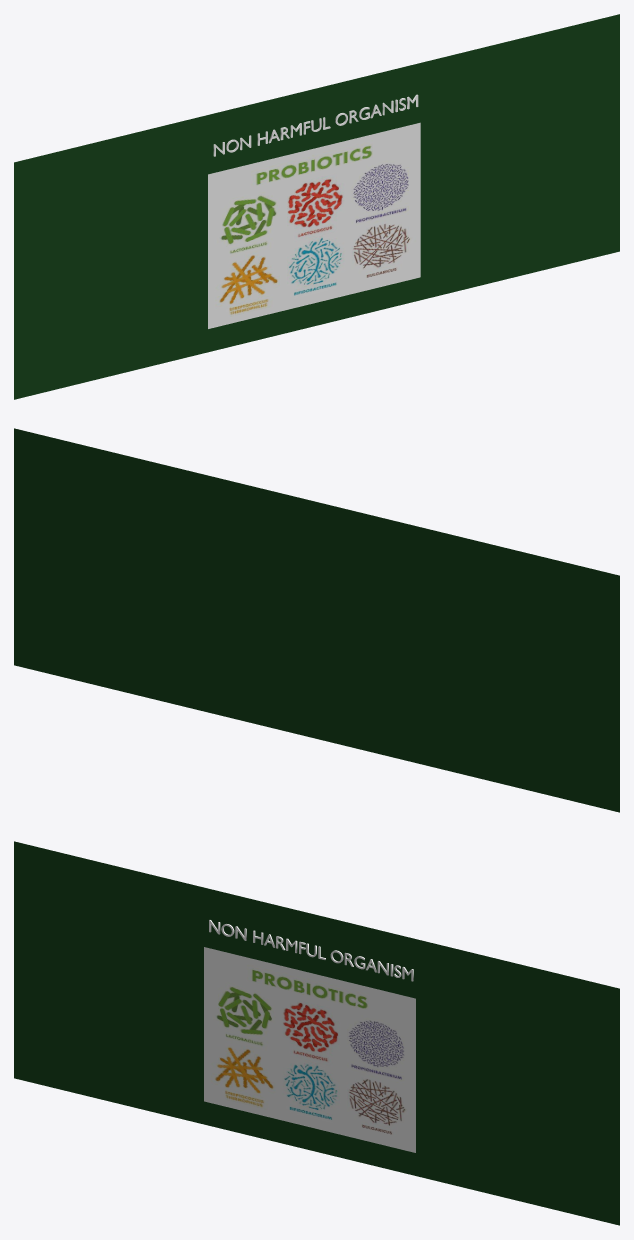
Rendered from anti.gltf.
The picture shows the model from 3 angles, top to bottom: view 1: azimuth 30°, elevation 25°; view 2: azimuth 150°, elevation 25°; view 3: azimuth 330°, elevation 25°; orthographic projection.
Visible parts, largest first — view 1: Plane.013, Plane, Text.008; view 2: Plane.013; view 3: Plane.013, Plane, Text.008.
Part boxes in pixels (bbox=[...]): Plane.013: bbox=[14, 14, 619, 399]; Plane: bbox=[208, 122, 420, 328]; Text.008: bbox=[213, 94, 418, 156]; Plane.013: bbox=[14, 428, 619, 812]; Plane.013: bbox=[14, 841, 619, 1225]; Plane: bbox=[204, 947, 415, 1152]; Text.008: bbox=[209, 920, 413, 981].
Size of the model in its own units: 15.94 by 5.96 by 0.1403.
3 materials, 1 textured.
